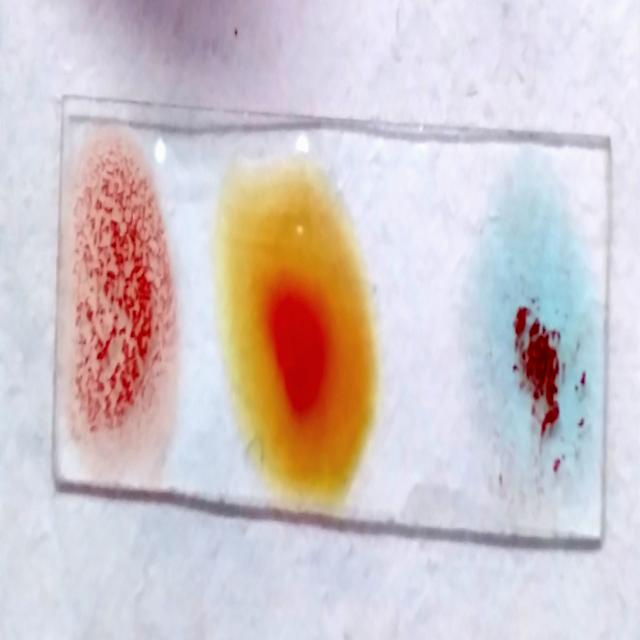A: (482, 173, 600, 487)
D: (64, 138, 174, 461)
